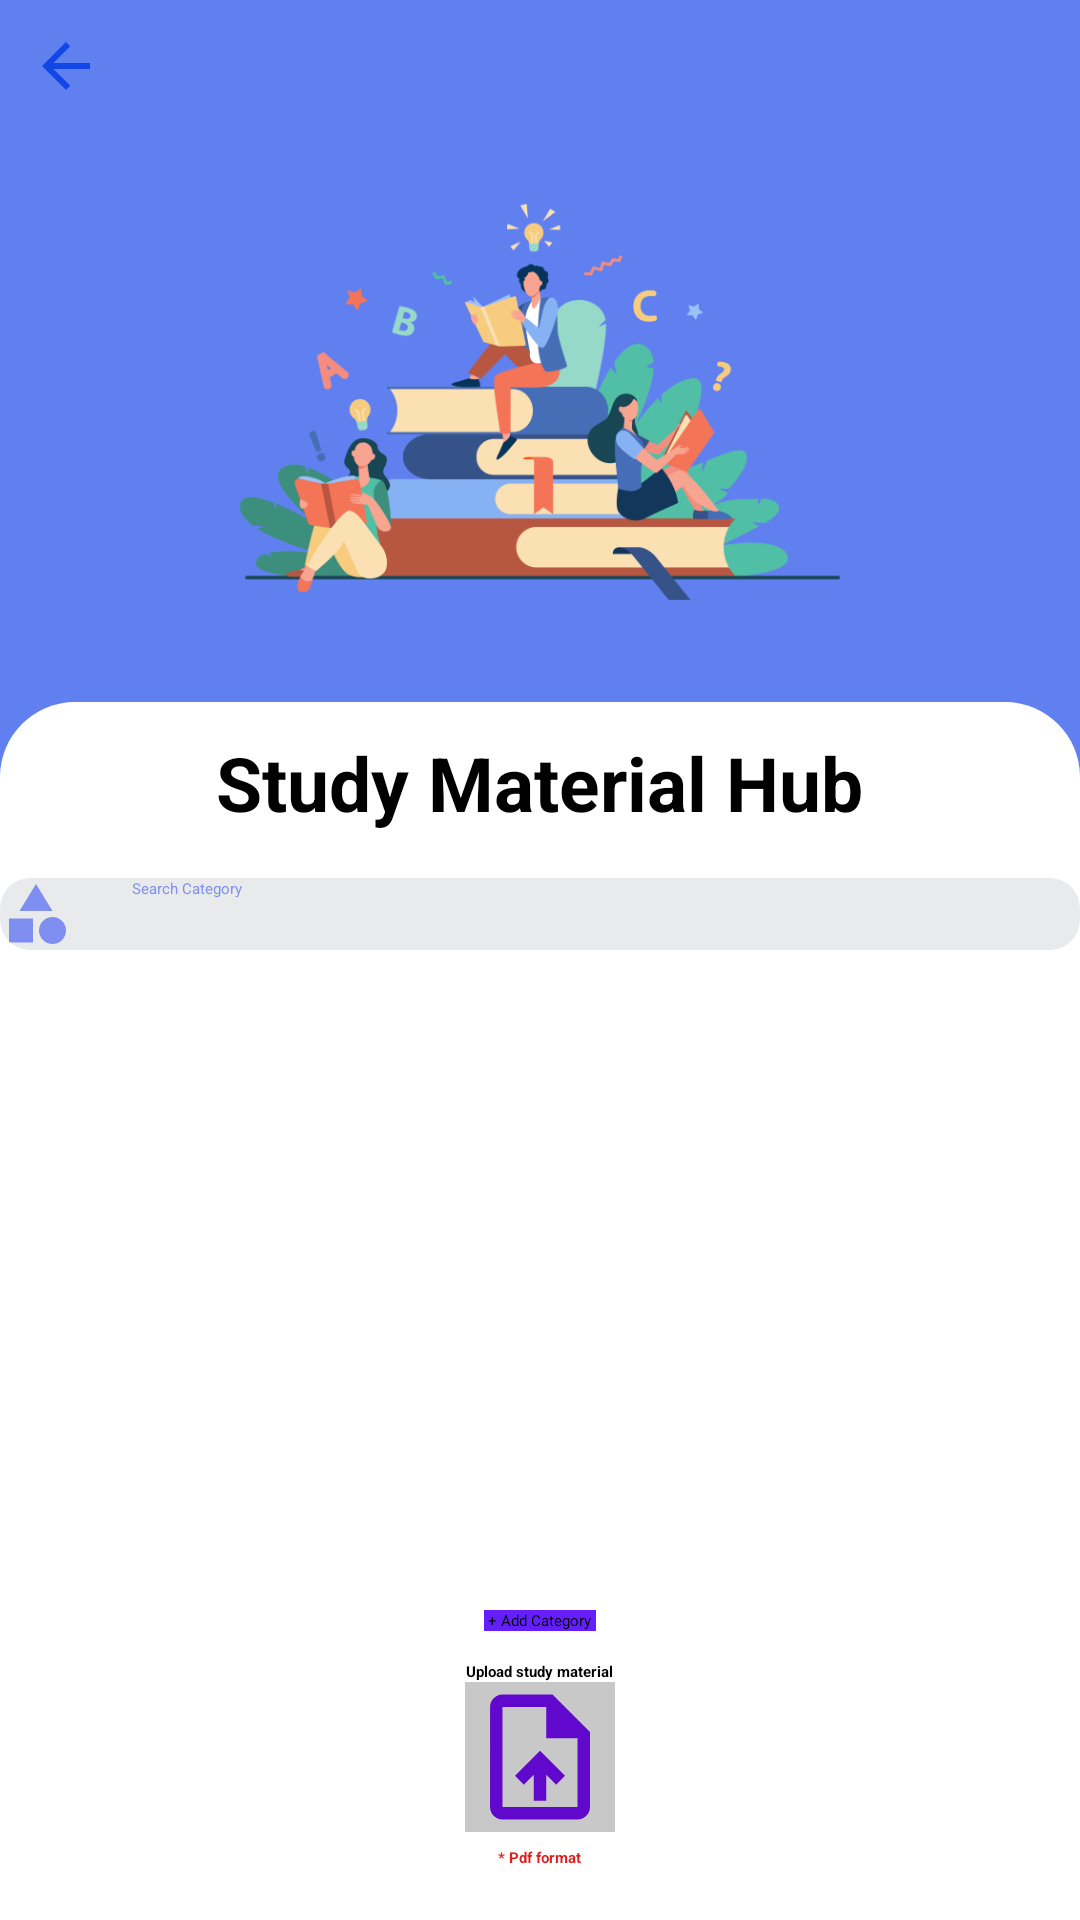

Locate icon controls on the screen. Image size 1080w x 1920h, boxes as (x1, y1, x2, y2).
arrow back: (42, 42, 90, 90)
